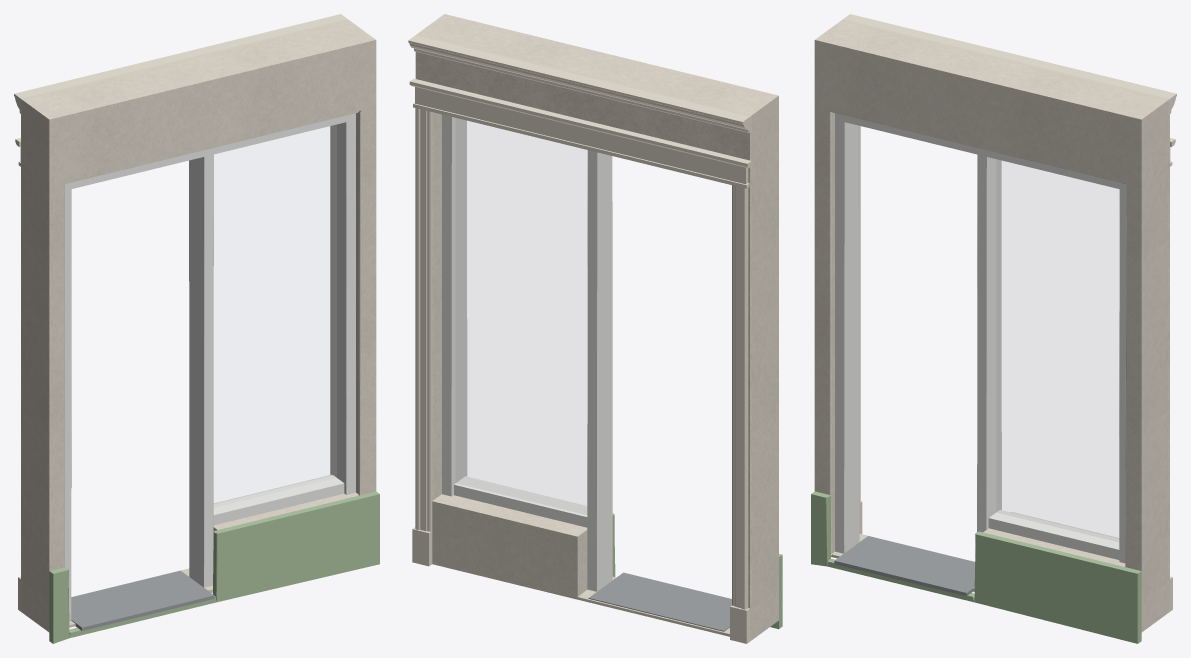
The model's file is wall_ribbon_door.glb.
3 views of the same model, side by side, from view 1: azimuth 30°, elevation 25°; view 2: azimuth 150°, elevation 25°; view 3: azimuth 330°, elevation 25° (orthographic). The views are drawn at different scales.
Parts seen in each view (by area): view 1: wall_ribbon_door_panel, wall_ribbon_door_glass, wall_ribbon_door_frame, wall_ribbon_door_band, wall_ribbon_door_coping, molduras, wall_ribbon_door_plaster; view 2: wall_ribbon_door_glass, wall_ribbon_door_panel, molduras, wall_ribbon_door_frame, wall_ribbon_door_plaster, wall_ribbon_door_coping, wall_ribbon_door_band; view 3: wall_ribbon_door_panel, wall_ribbon_door_glass, wall_ribbon_door_frame, wall_ribbon_door_band, wall_ribbon_door_coping, molduras, wall_ribbon_door_plaster.
Boxes of the visible parts, <box> form: wall_ribbon_door_panel: <box>23,20,376,632</box>; wall_ribbon_door_glass: <box>214,125,336,506</box>; wall_ribbon_door_frame: <box>64,113,355,621</box>; wall_ribbon_door_band: <box>49,491,379,643</box>; wall_ribbon_door_coping: <box>71,570,214,630</box>; molduras: <box>14,14,347,611</box>; wall_ribbon_door_plaster: <box>21,19,349,612</box>; wall_ribbon_door_glass: <box>456,118,586,514</box>; wall_ribbon_door_panel: <box>418,14,778,639</box>; molduras: <box>408,35,751,643</box>; wall_ribbon_door_frame: <box>442,114,612,591</box>; wall_ribbon_door_plaster: <box>415,34,751,641</box>; wall_ribbon_door_coping: <box>588,572,731,631</box>; wall_ribbon_door_band: <box>612,513,782,629</box>; wall_ribbon_door_panel: <box>814,20,1167,632</box>; wall_ribbon_door_glass: <box>997,160,1118,541</box>; wall_ribbon_door_frame: <box>835,113,1126,563</box>; wall_ribbon_door_band: <box>811,491,1141,643</box>; wall_ribbon_door_coping: <box>834,536,974,596</box>; molduras: <box>843,14,1176,611</box>; wall_ribbon_door_plaster: <box>841,19,1169,612</box>.
Size of the model in its own units: 2.02 by 3.05 by 0.445.
Materials: 7 (2 with a texture image).
